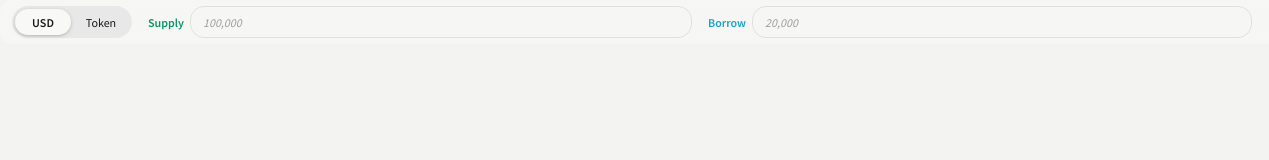
Test: ScenarioControls › useDebouncedInput migration (AAV-745) › should clear supply and immediately commit empty string on clear button
The width and height of the screenshot is (1269, 160).
Step 1. Type "5000" into the field named "Supply amount" → (441, 22), box [190,6,692,38]
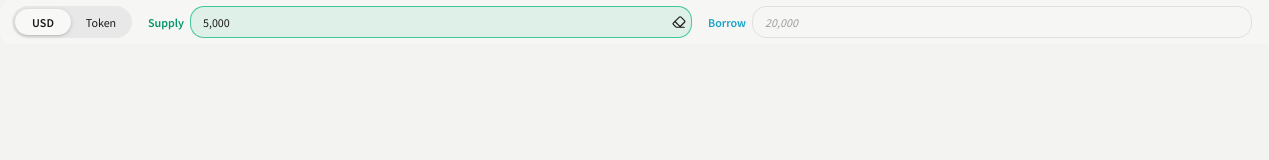
Step 2. Type "2000" into the field named "Borrow amount" → (1002, 22), box [752,6,1252,38]
Wait 300 ms
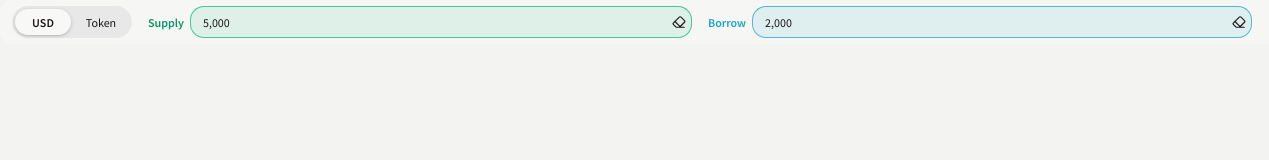
Step 3. Click the button named "Clear supply amount" → (679, 22), box [670,13,688,31]
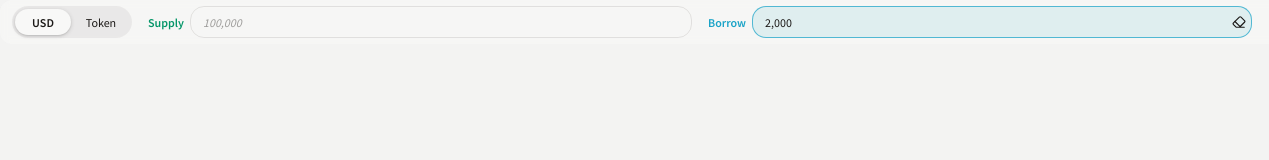
Now the field named "Supply amount" is empty, box [190,6,692,38]
